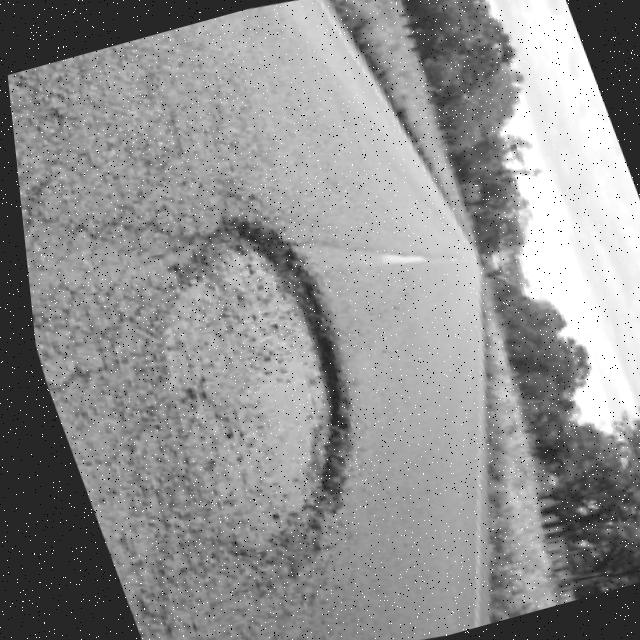Pothole: (49, 141, 445, 640)
